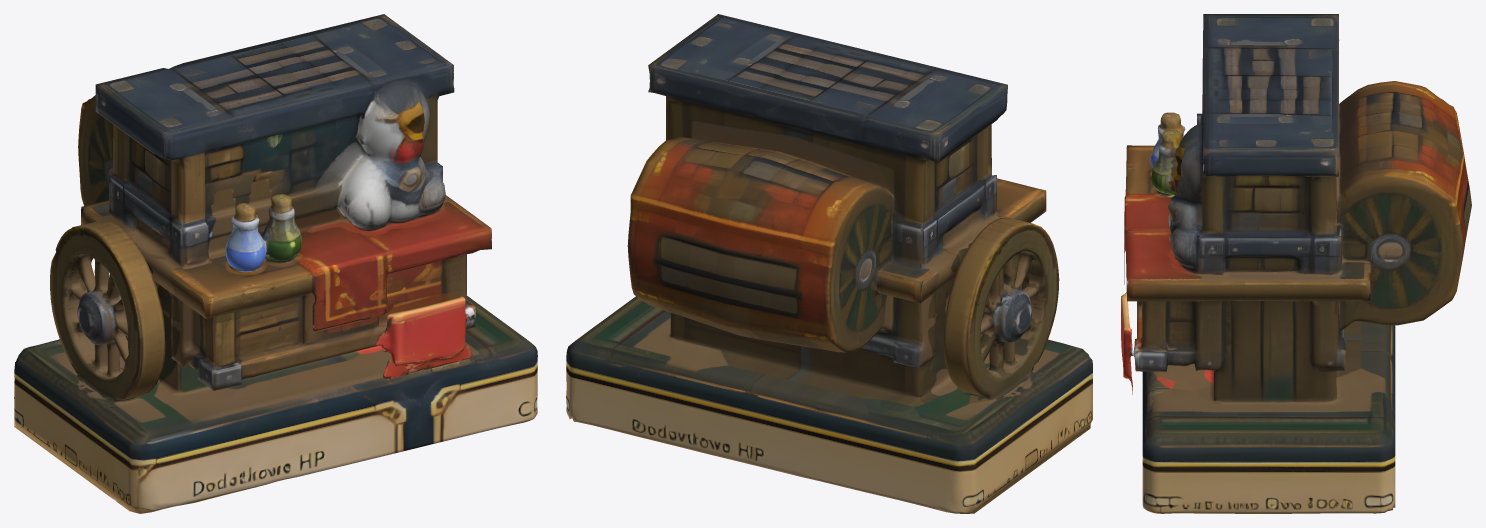
Rendered from shop-wagon.glb.
3 views of the same model, side by side, from view 1: azimuth 30°, elevation 25°; view 2: azimuth 150°, elevation 25°; view 3: azimuth 270°, elevation 25° (orthographic). The views are drawn at different scales.
Parts seen in each view (by area): view 1: model; view 2: model; view 3: model.
Boxes of the visible parts, box(x1,y1,x2,y2) form: model: box(14, 14, 537, 513); model: box(566, 14, 1092, 513); model: box(1121, 14, 1471, 513).
Size of the model in its own units: 1.9 by 1.55 by 1.46.
1 material, 1 textured.
